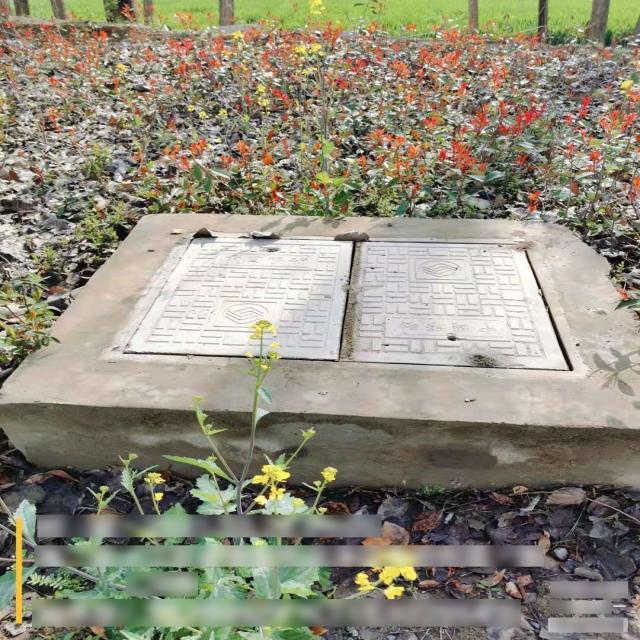Good: (101, 232, 588, 378)
